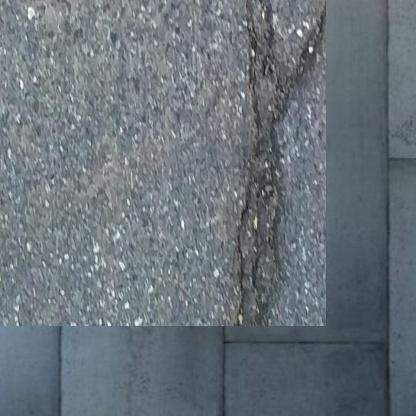Cracks: (213, 0, 302, 301)
